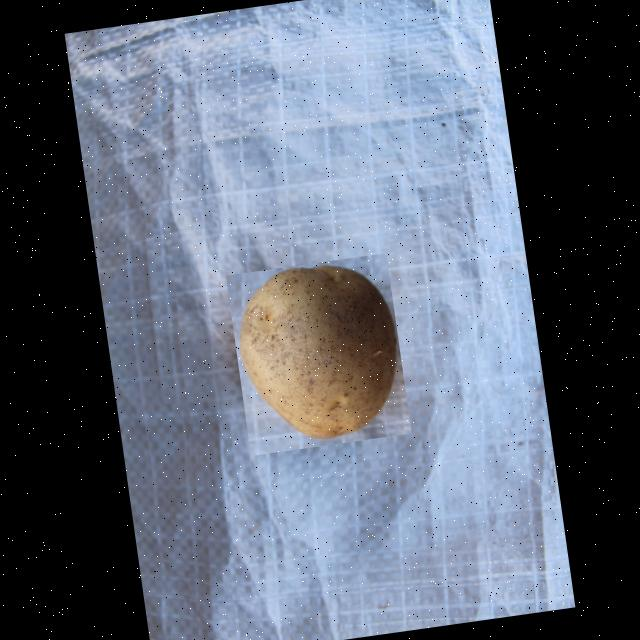Diseased-fungal potato: (226, 252, 412, 455)
